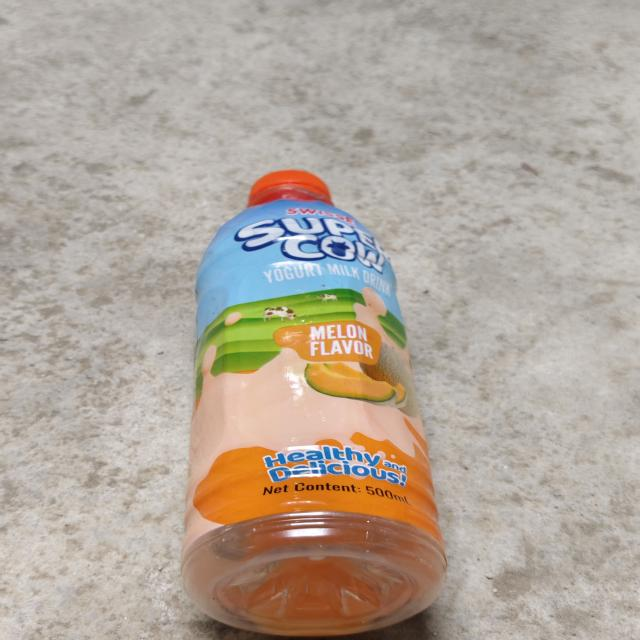Bottle: (180, 170, 447, 640)
